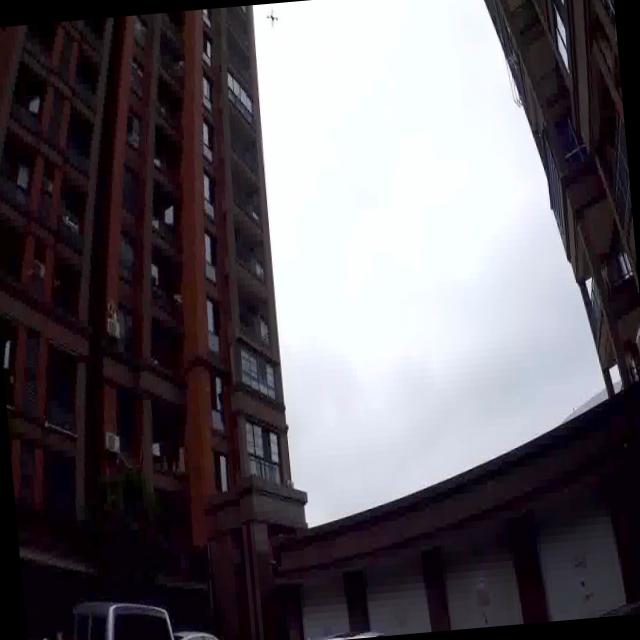drone: (263, 4, 282, 39)
